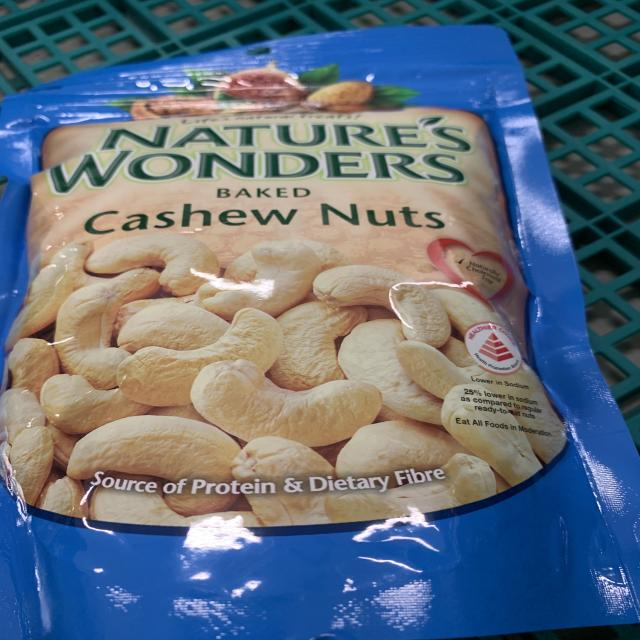object_name: (11, 59, 610, 635)
